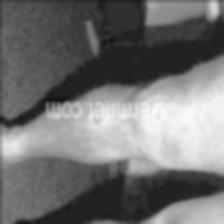Toxin: (132, 118, 166, 160), (134, 82, 164, 98), (86, 88, 110, 100)
